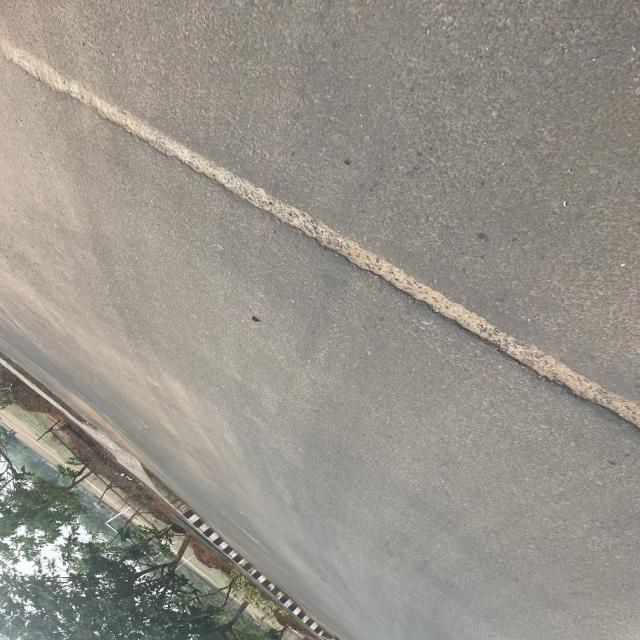D10: (3, 23, 633, 432)
D43: (0, 31, 640, 448)
